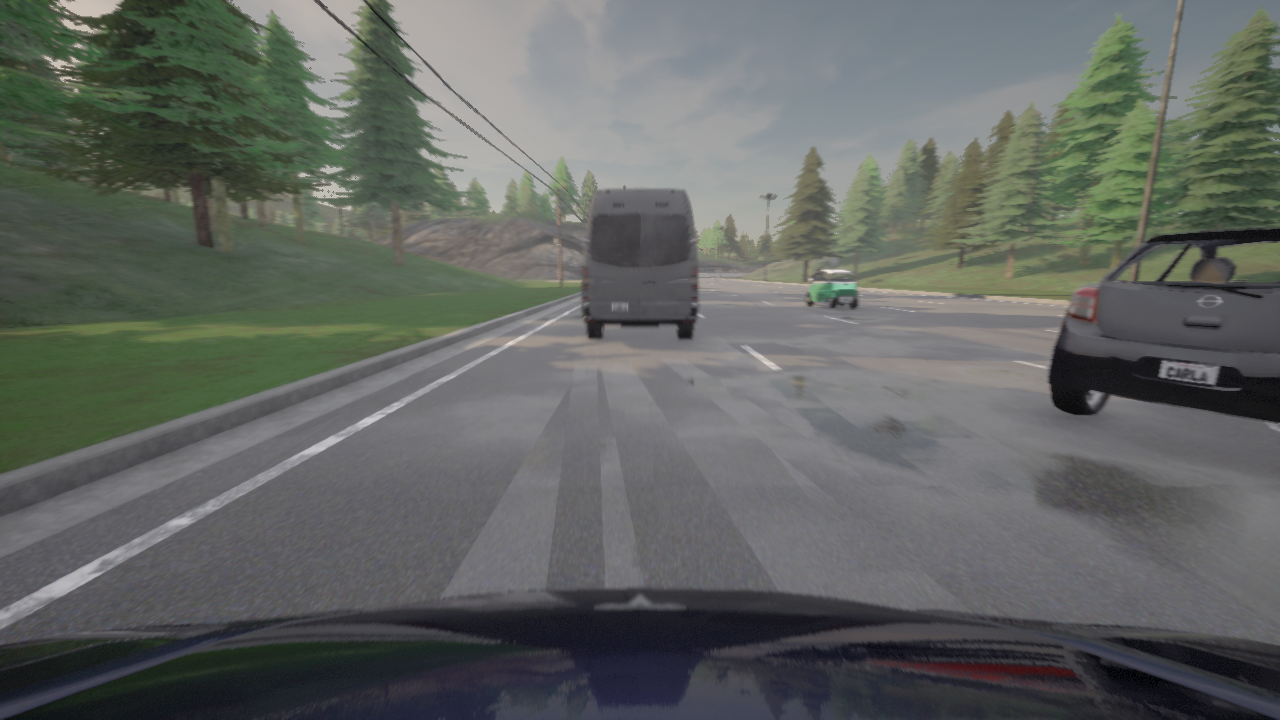cyclist: (0, 588, 1279, 719), (1046, 228, 1279, 431), (581, 188, 698, 338), (806, 269, 857, 308), (808, 275, 815, 278)
